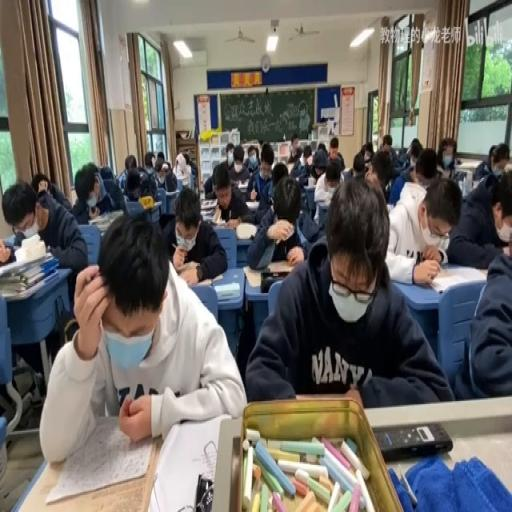calculator: (44, 412, 154, 502), (151, 411, 231, 511), (426, 264, 483, 294), (244, 260, 294, 289), (214, 282, 240, 300), (191, 270, 223, 284), (234, 222, 258, 240), (302, 185, 316, 215), (452, 170, 469, 194), (198, 198, 218, 216), (138, 199, 161, 212), (216, 219, 238, 230), (470, 175, 484, 188), (474, 266, 490, 277), (245, 199, 259, 209), (236, 179, 249, 189), (306, 176, 316, 188), (180, 174, 190, 184)
paper: (42, 212, 240, 461), (246, 175, 450, 410), (454, 242, 512, 402), (4, 176, 86, 288), (448, 155, 510, 267), (165, 183, 226, 283), (71, 160, 126, 224), (258, 162, 292, 225), (384, 142, 416, 202), (120, 159, 156, 205), (203, 150, 229, 196), (297, 206, 323, 246), (152, 156, 178, 192), (228, 142, 250, 184), (436, 137, 458, 179), (308, 148, 331, 183), (287, 145, 309, 181), (326, 135, 344, 171), (472, 154, 493, 180), (30, 171, 52, 195), (408, 136, 422, 164), (0, 239, 15, 264), (360, 142, 374, 165), (260, 154, 274, 176), (116, 168, 128, 190), (124, 154, 137, 172), (486, 145, 498, 164), (99, 164, 113, 180), (144, 150, 155, 170), (325, 171, 339, 186), (247, 148, 258, 163), (382, 134, 392, 150), (394, 148, 406, 161), (182, 151, 190, 168), (317, 142, 326, 155), (189, 160, 196, 174), (304, 150, 310, 164), (290, 138, 298, 148), (506, 162, 512, 175), (156, 164, 162, 174)
person: (374, 422, 451, 462), (194, 474, 214, 509)
